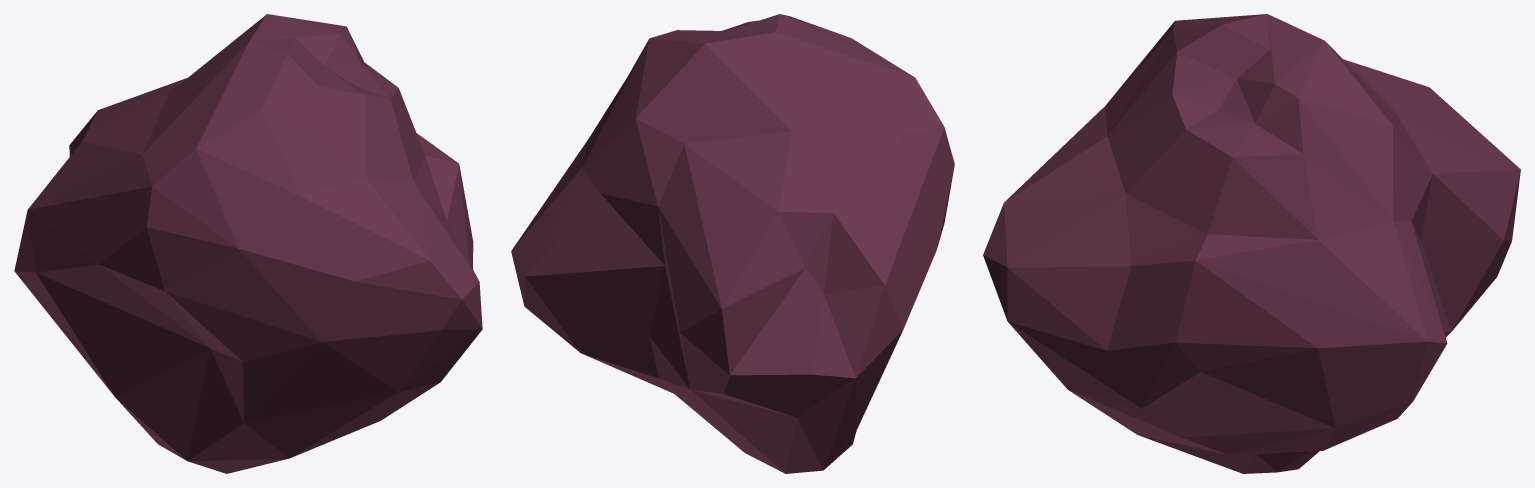
The model's file is asteroid3.fbx.
3 renders of one model, left to right at view 1: azimuth 30°, elevation 25°; view 2: azimuth 150°, elevation 25°; view 3: azimuth 270°, elevation 25°, orthographic. The views are drawn at different scales.
Parts seen in each view (by area): view 1: Asteroid3; view 2: Asteroid3; view 3: Asteroid3.
Boxes of the visible parts, box(x1,y1,x2,y2) form: Asteroid3: box(14, 14, 482, 473); Asteroid3: box(511, 14, 954, 473); Asteroid3: box(983, 14, 1520, 473).
Bounding box in the file's own units: 236 × 263 × 277.
